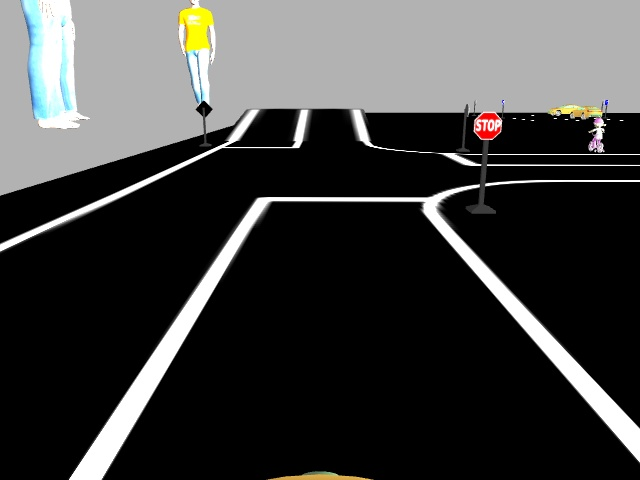Stop: (471, 109, 503, 140)
